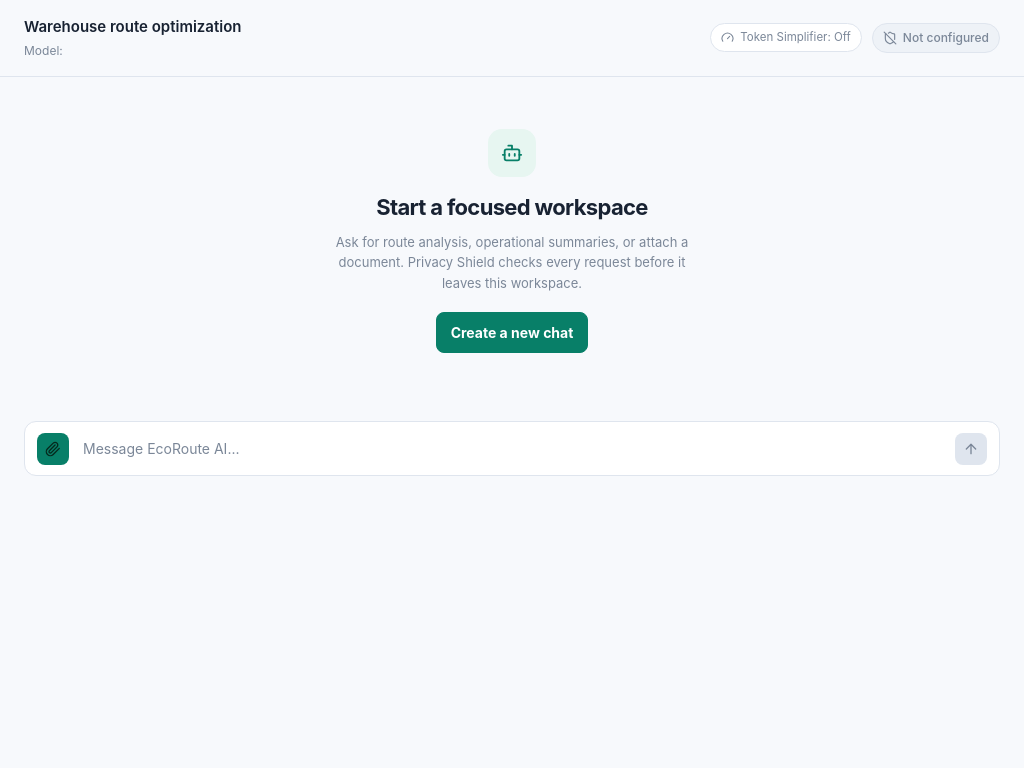
Test case: ChatArea - Token Simplifier integration › shows clear feedback when no tokens are saved
The width and height of the screenshot is (1024, 768).
In the text box with placeholder "Message EcoRoute AI...": (512,448) [79, 432, 945, 465], type "Fix bug."
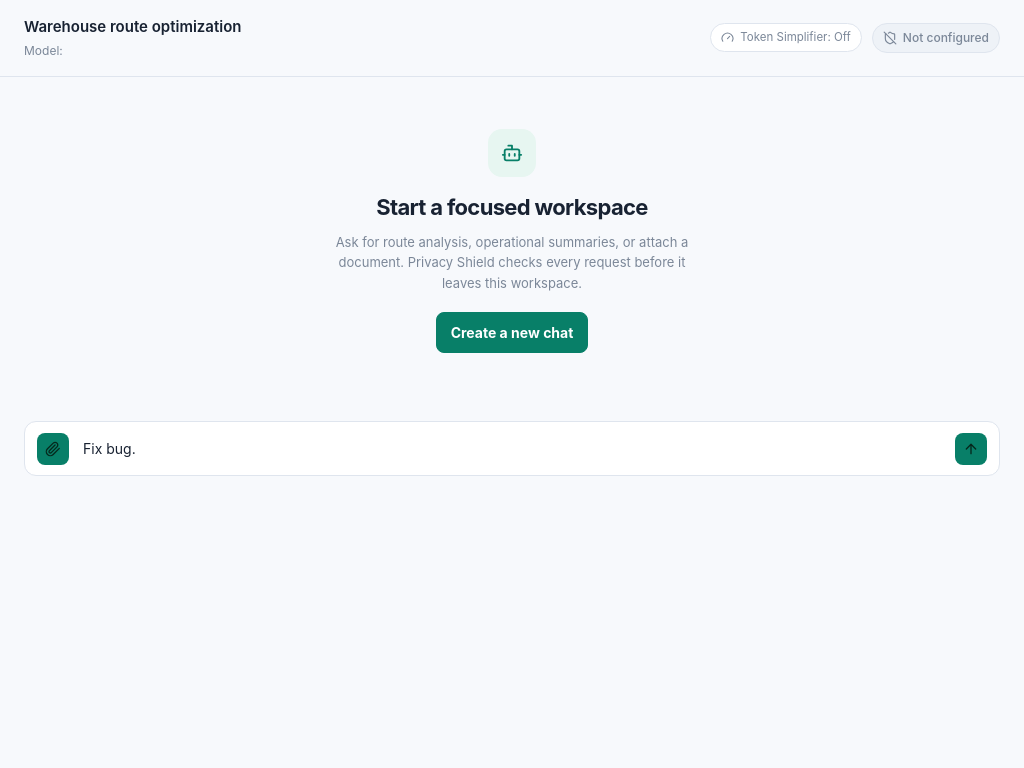
Click the button named "Send message": (971,449) [955, 433, 987, 465]
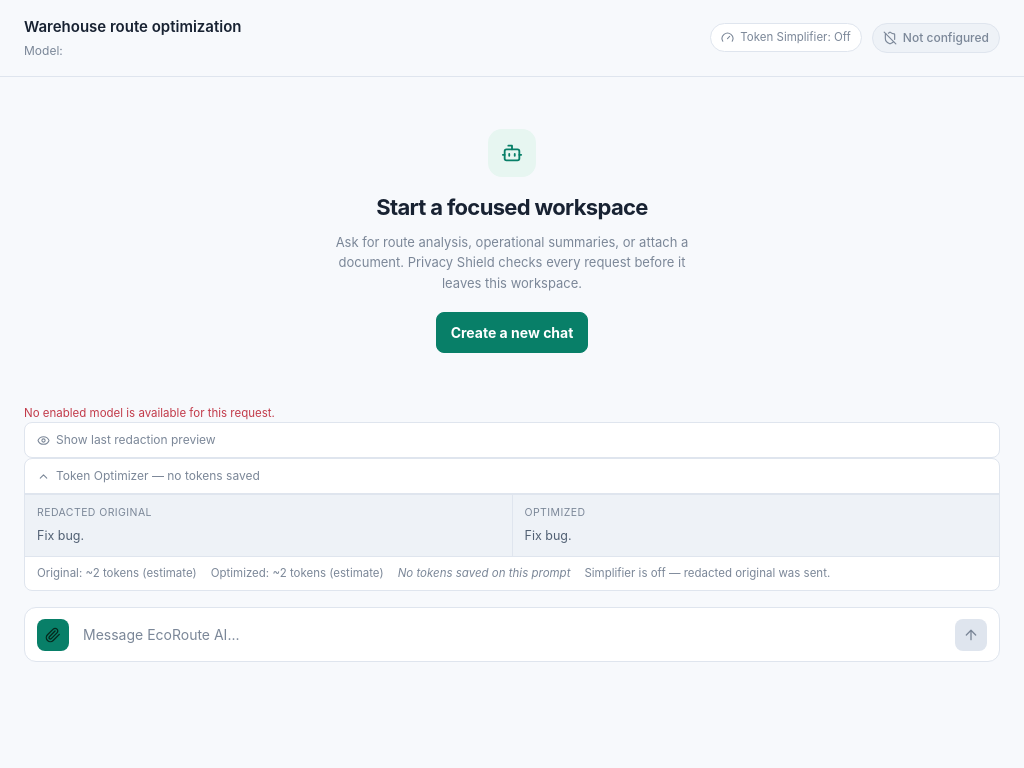
Check: the text "No tokens saved on this prompt" is shown, box [398, 565, 570, 582]
